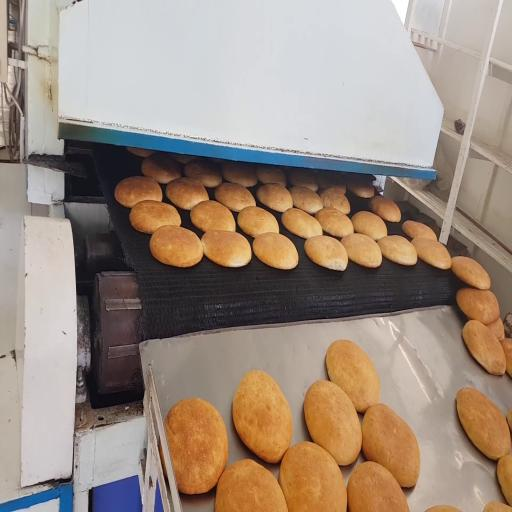bread: (165, 398, 228, 494), (233, 371, 292, 463), (362, 404, 420, 487), (304, 381, 361, 465), (279, 442, 346, 511), (456, 388, 510, 460), (326, 340, 380, 412), (215, 459, 287, 511), (347, 462, 409, 511), (462, 320, 506, 375), (150, 226, 203, 267), (201, 230, 251, 267), (130, 200, 181, 234), (253, 233, 298, 269), (456, 288, 499, 325), (115, 176, 162, 208), (305, 236, 347, 271), (166, 177, 209, 210), (191, 201, 235, 232), (342, 234, 381, 268), (451, 256, 490, 290), (412, 237, 451, 269), (238, 207, 279, 237), (142, 153, 181, 184), (282, 208, 322, 238), (315, 208, 353, 238), (378, 236, 417, 265), (215, 183, 255, 211), (184, 159, 222, 187), (352, 211, 387, 241), (257, 183, 293, 212), (222, 161, 257, 187), (290, 187, 323, 214), (370, 195, 401, 222), (320, 187, 350, 214), (497, 454, 511, 504), (402, 220, 437, 240), (288, 168, 318, 191), (317, 171, 346, 193), (257, 166, 286, 186), (347, 181, 374, 198), (500, 339, 511, 376), (488, 318, 505, 340), (168, 153, 196, 164), (127, 147, 154, 157), (484, 502, 511, 511), (426, 505, 460, 511), (507, 409, 511, 429)
